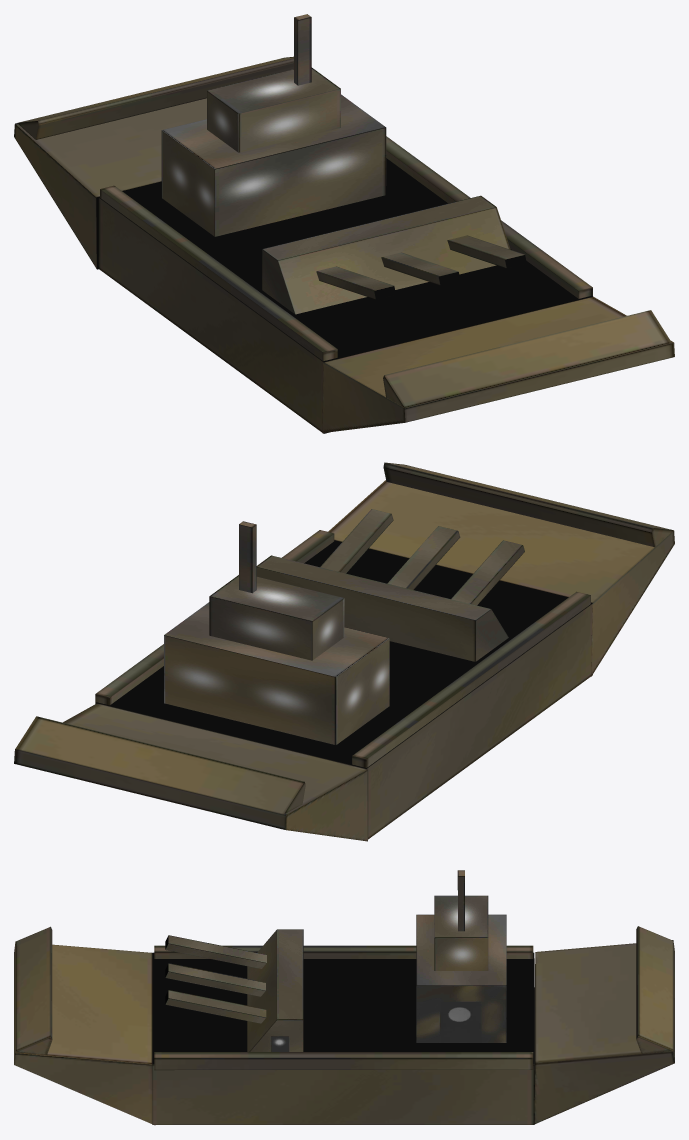
3 views of the same model, one above another, from view 1: azimuth 30°, elevation 25°; view 2: azimuth 150°, elevation 25°; view 3: azimuth 270°, elevation 25° (orthographic). The views are drawn at different scales.
Parts seen in each view (by area): view 1: Player; view 2: Player; view 3: Player.
Boxes of the visible parts, left/top/right/bottom form: Player: left=14, top=14, right=674, bottom=433; Player: left=14, top=462, right=674, bottom=841; Player: left=14, top=870, right=674, bottom=1125.
Bounding box in the file's own units: 236 × 203 × 586.
Materials: 1 (1 with a texture image).
